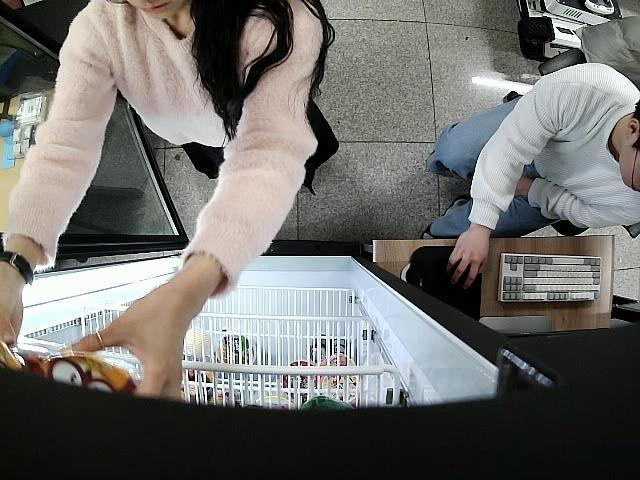05_nuguri_L: (29, 351, 138, 398)
